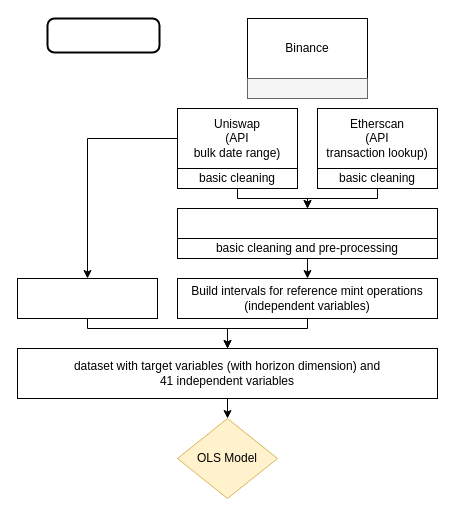
The diagram is 455 pixels wide and 516 high, and some of its shapes have lost their labels. Here are the shapes that lost their labels. From the top down, the centre of each, then its label:
At (103,35): "Data Diagram".
At (307,88): "not yet started".
At (307,223): "Block Number + Pool transactions".
At (87,298): "Build base horizon table".
